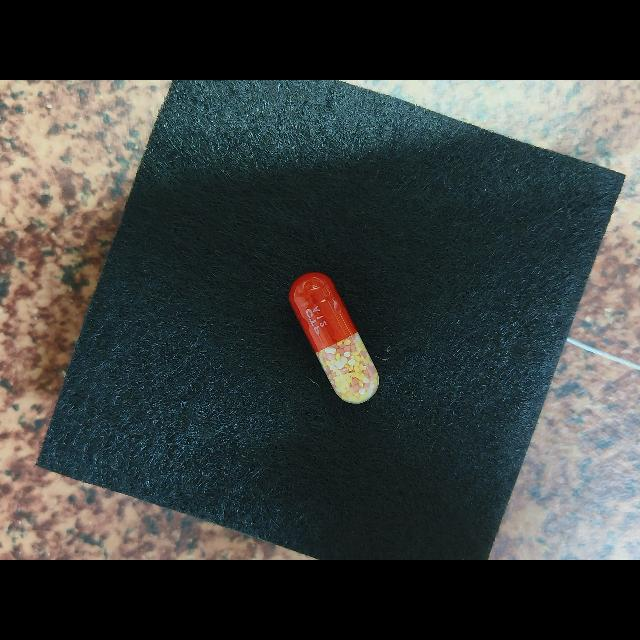Intact Capsule: (289, 272, 379, 404)
